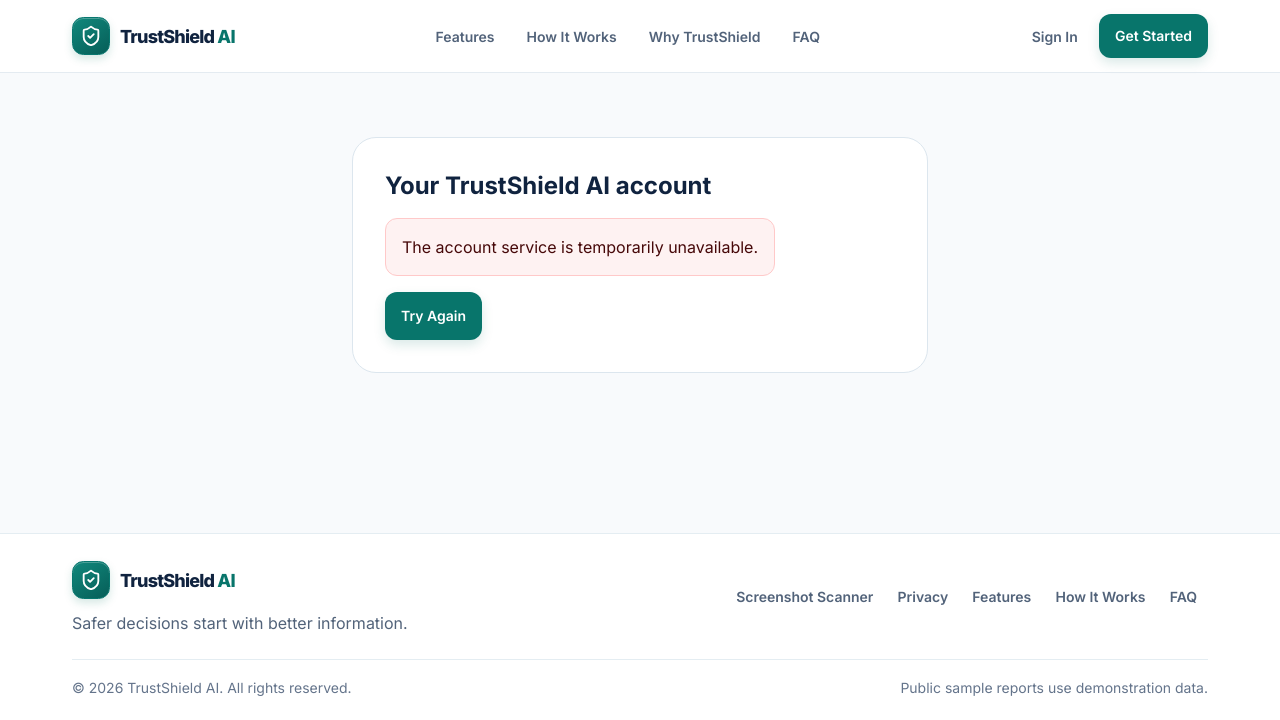
it: TrustShield authentication UI › shows a friendly backend error and can retry session verification
Expected: the message shows "temporarily unavailable", [402,237,758,257]
Click the button "Try Again". click: (434, 316)
box: [385,292,482,340]
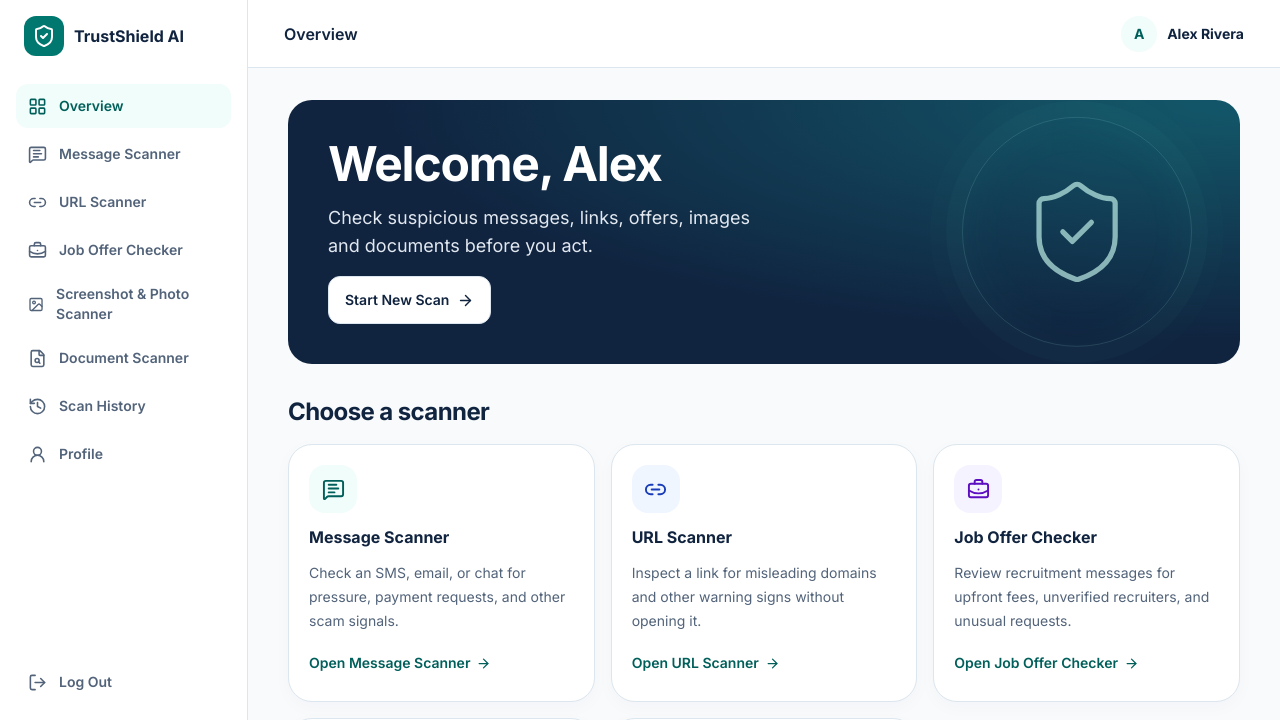
Expected: the heading "Welcome, Alex" is shown, [328,140,662,188]
